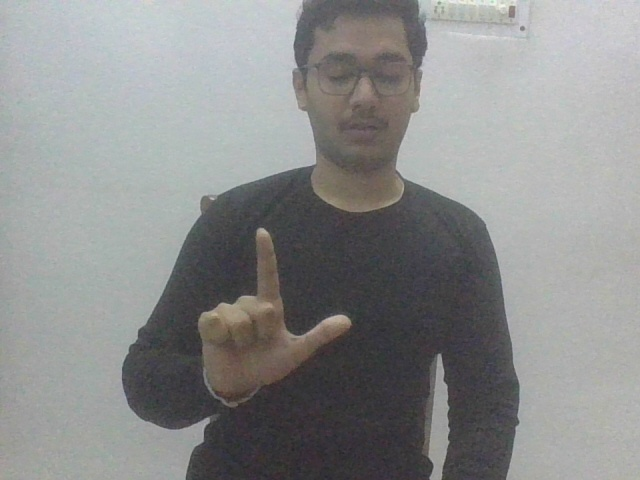L: (196, 225, 357, 409)
